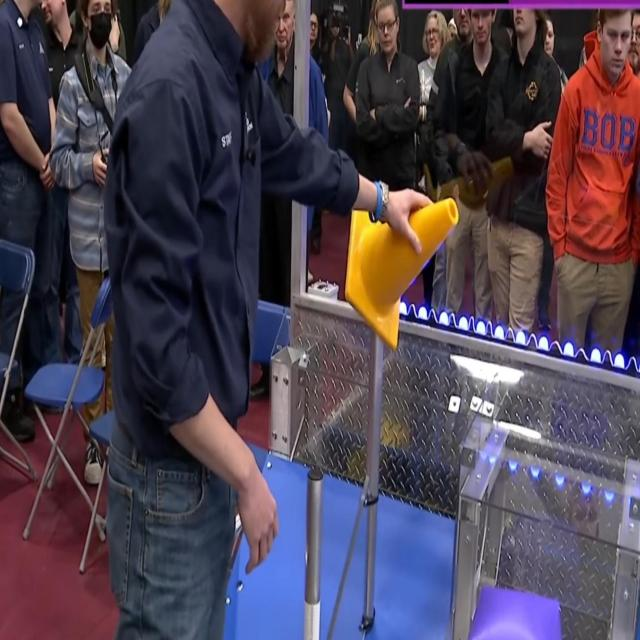frc_cone: (347, 185, 461, 348)
frc_cube: (464, 590, 564, 640)
